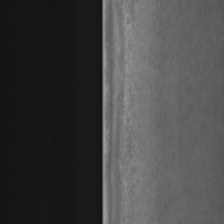silk_spot: (112, 8, 140, 221)
